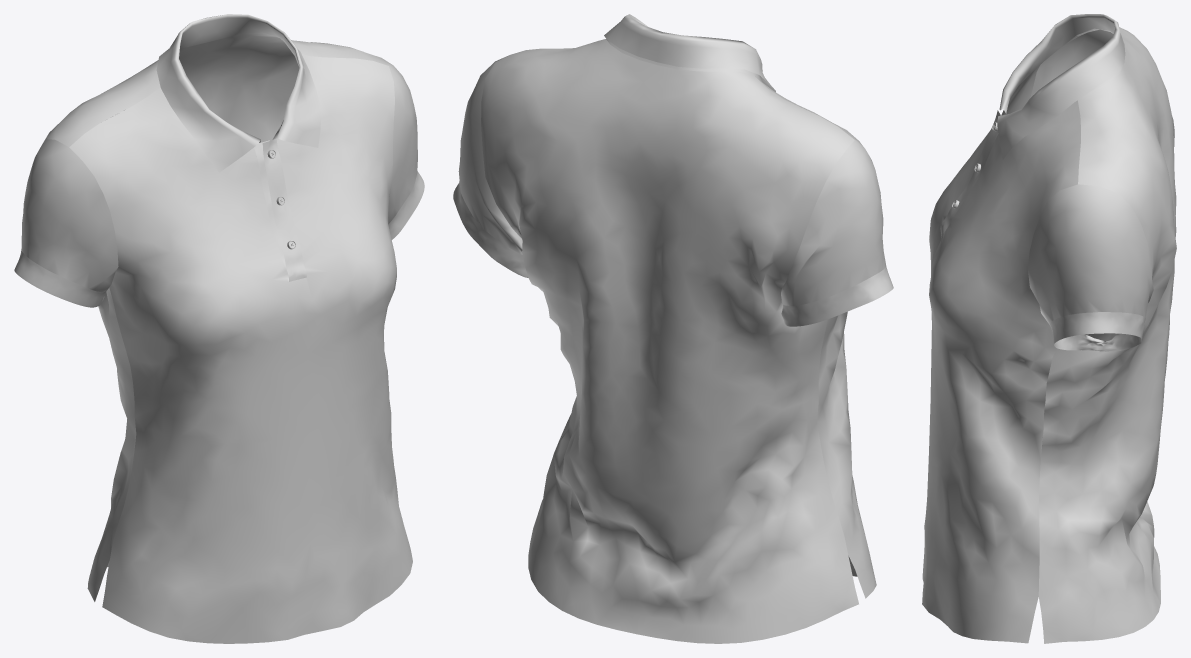
Rendered from polo_f.glb.
The picture shows the model from 3 angles, left to right: view 1: azimuth 30°, elevation 25°; view 2: azimuth 150°, elevation 25°; view 3: azimuth 270°, elevation 25°; orthographic projection. The views are drawn at different scales.
Parts seen in each view (by area): view 1: Cloth_mesh; view 2: Cloth_mesh; view 3: Cloth_mesh.
Part boxes in pixels (x1,y1,x2,y2): Cloth_mesh: (14,14,424,643); Cloth_mesh: (453,14,893,643); Cloth_mesh: (922,14,1176,643).
Bounding box in the file's own units: 0.4356 × 0.5695 × 0.2355.
2 materials, 1 textured.
